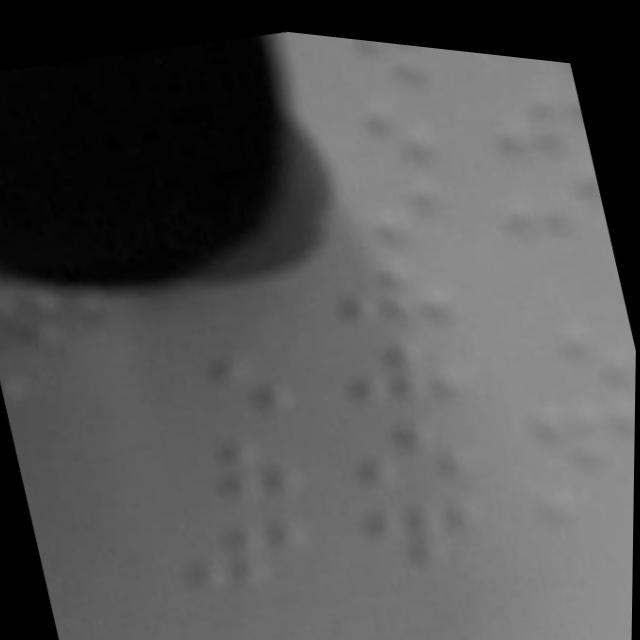braiile: (146, 310, 316, 438), (149, 397, 321, 519), (166, 480, 338, 601), (323, 212, 485, 337), (337, 295, 498, 418), (356, 460, 517, 579), (293, 66, 456, 183), (345, 377, 499, 499), (311, 141, 466, 255), (483, 136, 610, 245), (520, 357, 636, 471)
